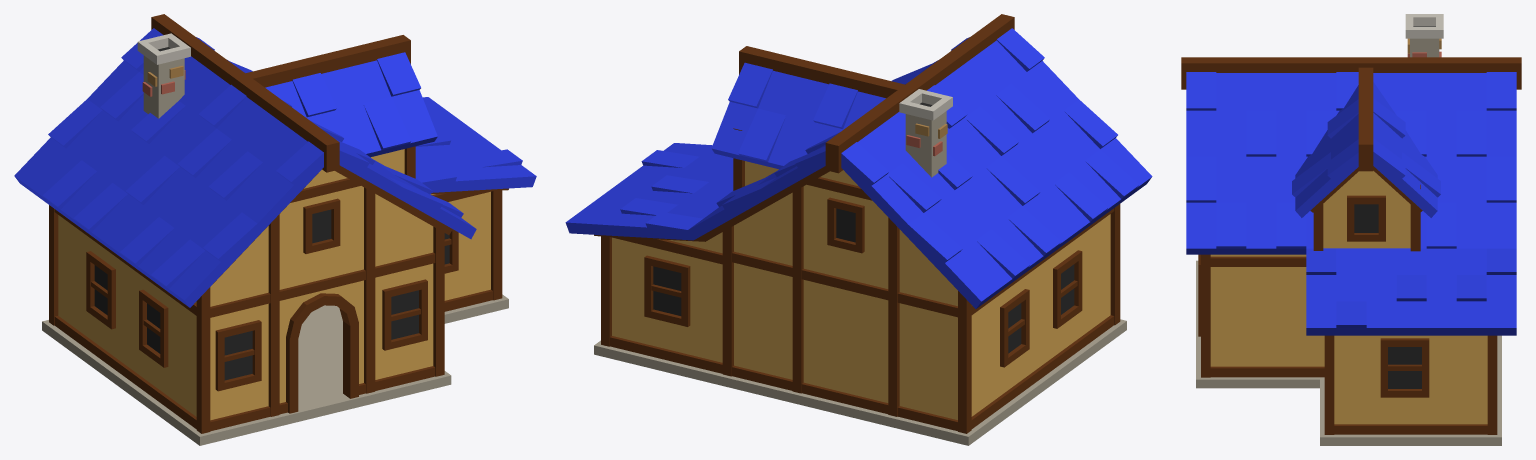
The model's file is House_02.fbx.
The picture shows the model from 3 angles, left to right: view 1: azimuth 30°, elevation 25°; view 2: azimuth 150°, elevation 25°; view 3: azimuth 270°, elevation 25°; orthographic projection. The views are drawn at different scales.
Visible parts, largest first — view 1: House_02; view 2: House_02; view 3: House_02.
Boxes of the visible parts, <box> form: House_02: <box>14,14,536,445</box>; House_02: <box>565,14,1152,445</box>; House_02: <box>1181,14,1521,445</box>.
Size of the model in its own units: 965 by 650 by 700.
Materials: 1 (1 with a texture image).
